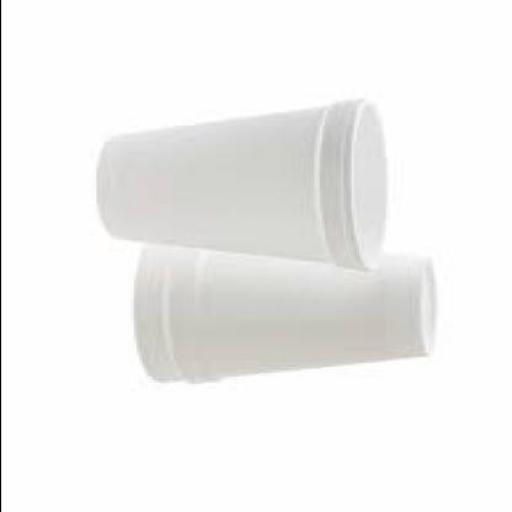paper: (104, 98, 387, 268), (136, 239, 438, 383)
